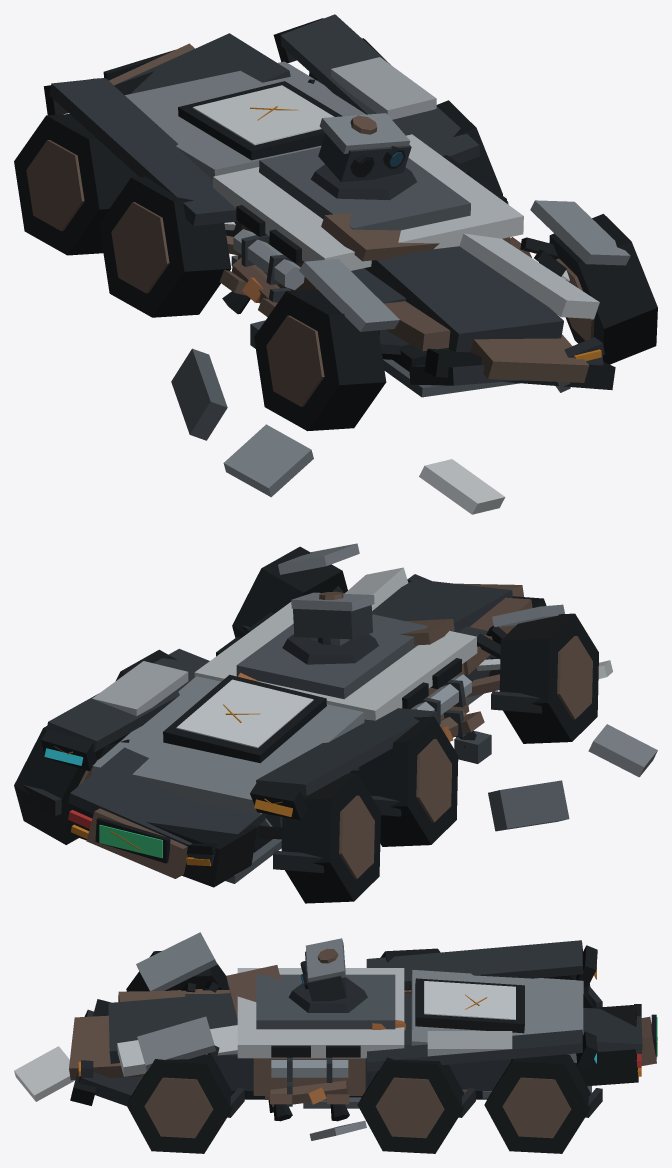
File: r47x_recon_rover_d2_lod2.glb
3 renders of one model, top to bottom at view 1: azimuth 30°, elevation 25°; view 2: azimuth 150°, elevation 25°; view 3: azimuth 270°, elevation 25°, orthographic. The views are drawn at different scales.
Visible parts, largest first — view 1: ROVER_STATIC_BODY; view 2: ROVER_STATIC_BODY; view 3: ROVER_STATIC_BODY.
Part boxes in pixels (x1,y1,x2,y2): ROVER_STATIC_BODY: [14, 14, 657, 514]; ROVER_STATIC_BODY: [14, 543, 657, 903]; ROVER_STATIC_BODY: [14, 932, 657, 1153].
Size of the model in its own units: 2.94 by 1.59 by 5.18.
